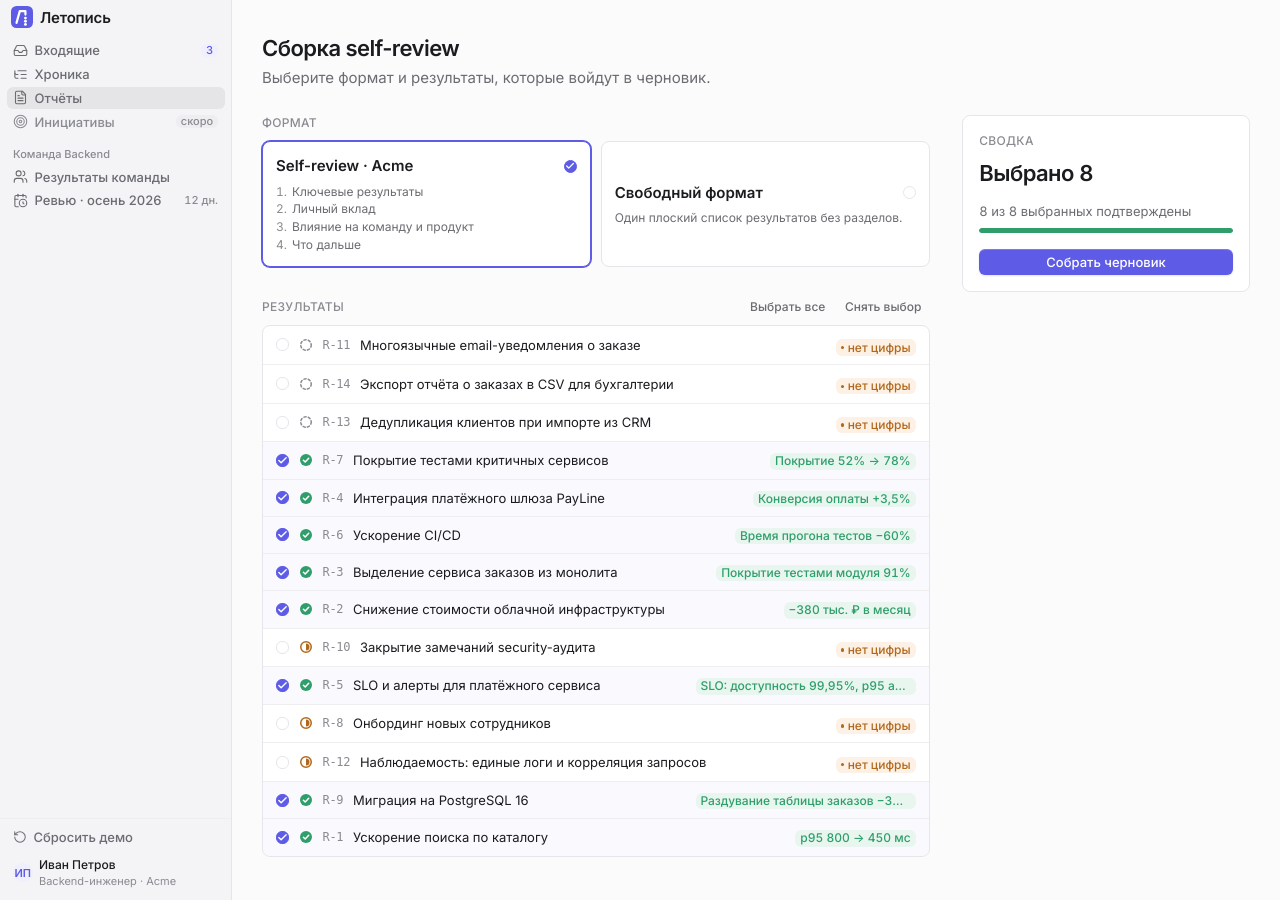
Test: отчёты › «Собрать черновик» disabled при пустом выборе
This screenshot has width=1280, height=900.
Click the button "Снять выбор": (883, 307) [837,296,930,319]
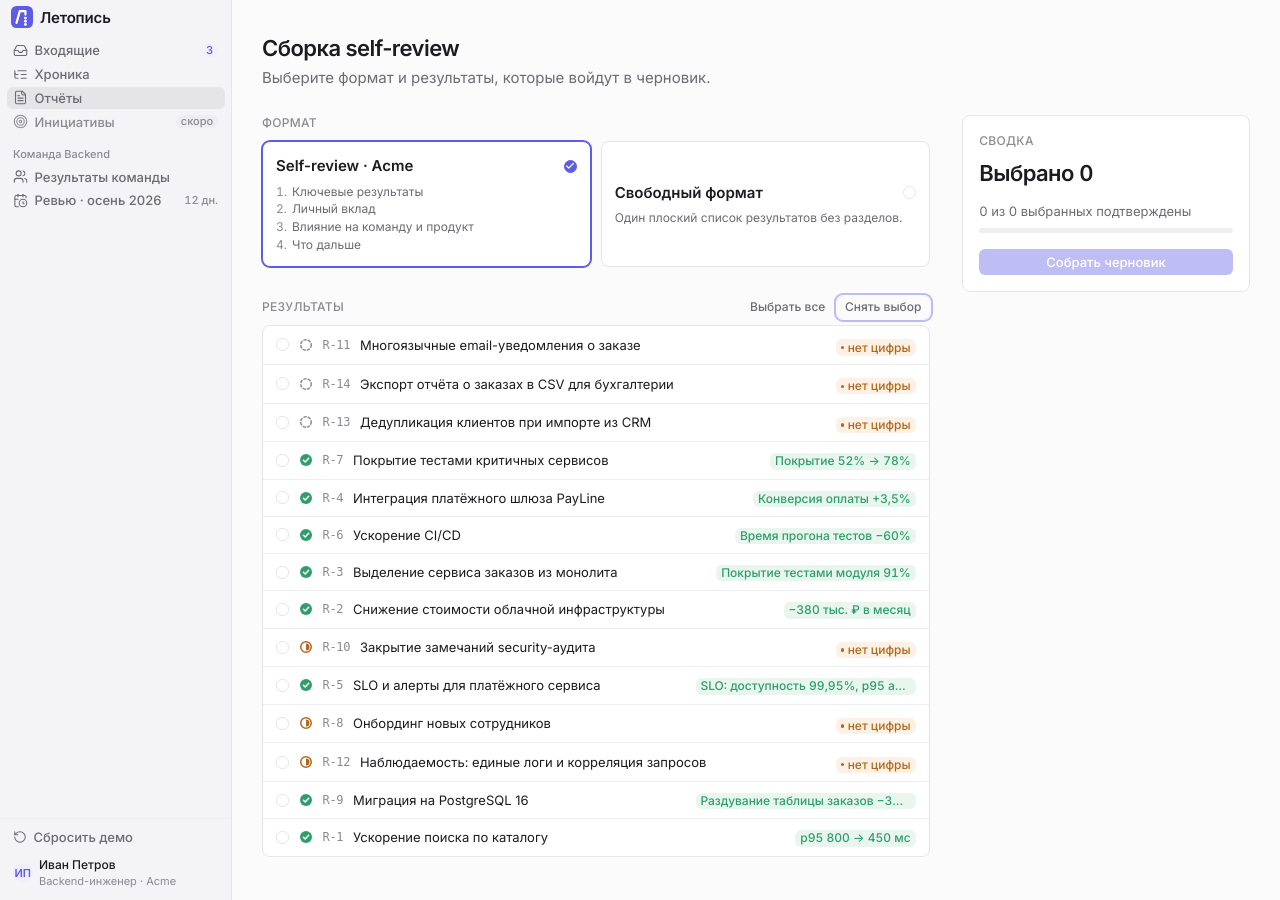
Now the button "Собрать черновик" is disabled, box [979,249,1233,275]
Now the text "Выбрано 0" is shown, box [979,160,1093,186]
